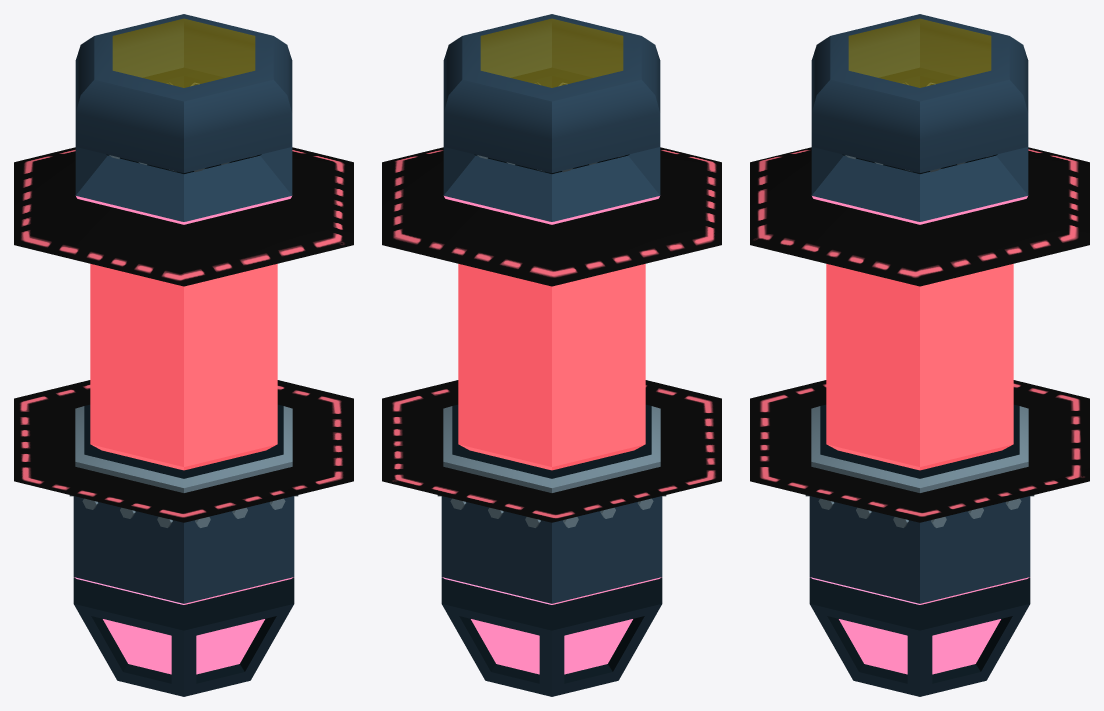
The model's file is Mesh_fish_tank_01.fbx.
3 views of the same model, side by side, from view 1: azimuth 30°, elevation 25°; view 2: azimuth 150°, elevation 25°; view 3: azimuth 270°, elevation 25° (orthographic).
Parts seen in each view (by area): view 1: Mesh_fish_tank_01; view 2: Mesh_fish_tank_01; view 3: Mesh_fish_tank_01.
Part boxes in pixels (x1,y1,x2,y2): Mesh_fish_tank_01: [14, 14, 353, 696]; Mesh_fish_tank_01: [382, 14, 721, 696]; Mesh_fish_tank_01: [750, 14, 1089, 696].
Size of the model in its own units: 307 by 529 by 266.
Materials: 8 (1 with a texture image).
